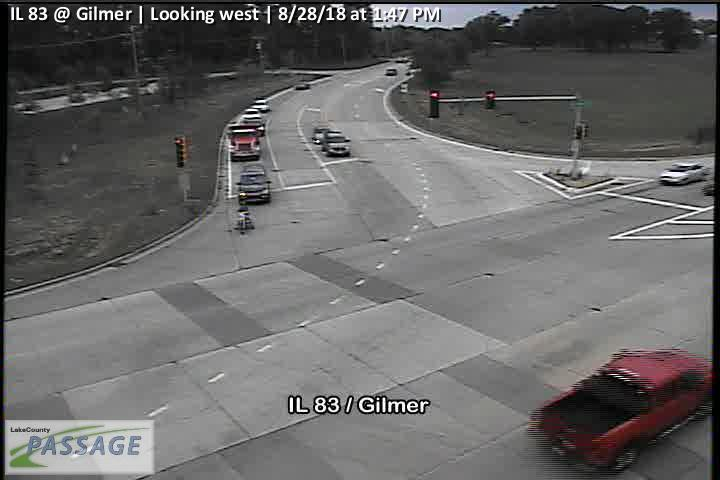Motorbike: (233, 200, 254, 235)
SUV: (235, 163, 273, 206), (323, 130, 351, 156), (240, 109, 265, 136), (251, 98, 270, 113)
Sedan: (659, 160, 707, 185), (310, 126, 329, 144)
Truck: (526, 343, 714, 473), (227, 123, 262, 161)
